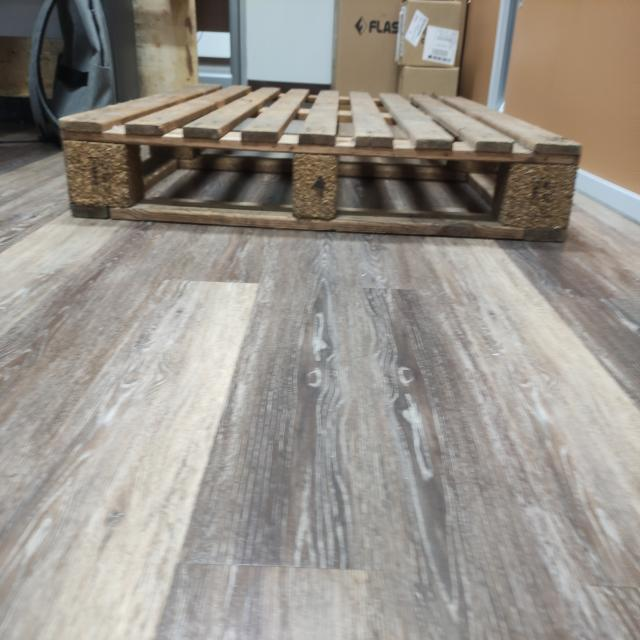block: (505, 151, 581, 242), (61, 123, 132, 216), (292, 140, 342, 226)
front: (53, 117, 582, 250)
